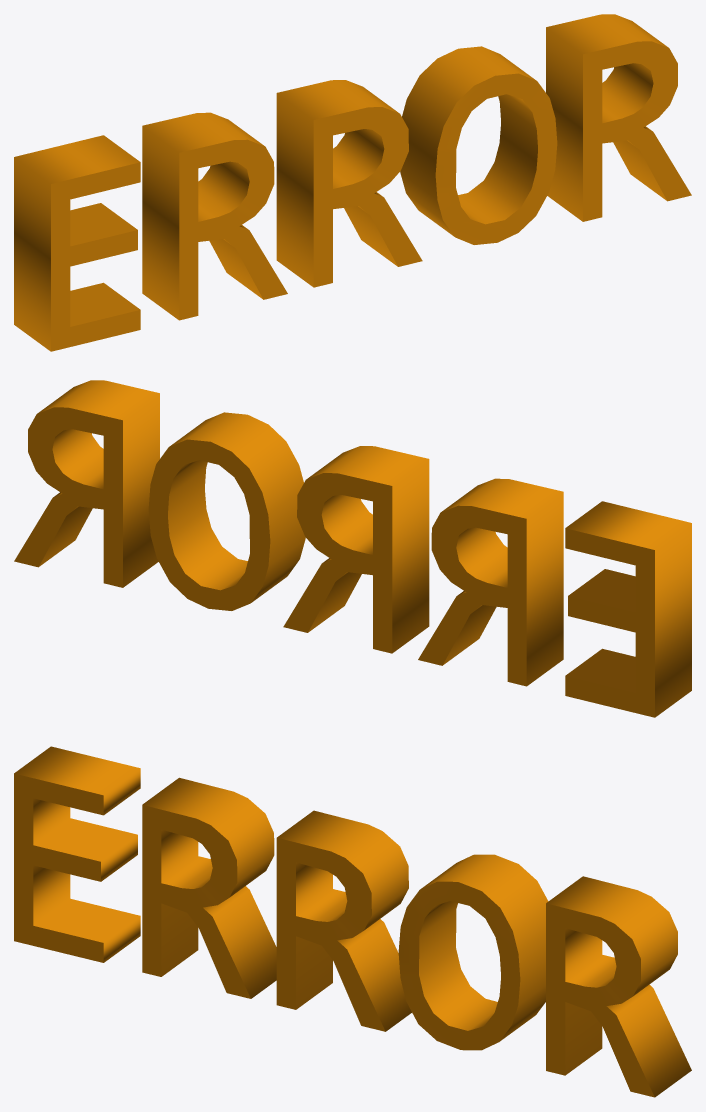
The model's file is error.gltf.
3 renders of one model, top to bottom at view 1: azimuth 30°, elevation 25°; view 2: azimuth 150°, elevation 25°; view 3: azimuth 330°, elevation 25°, orthographic.
Visible parts, largest first — view 1: error; view 2: error; view 3: error.
Part boxes in pixels (bbox=[...]): error: bbox=[14, 14, 691, 351]; error: bbox=[14, 380, 691, 717]; error: bbox=[14, 746, 691, 1097].
Bounding box in the file's own units: 2.54 × 0.635 × 0.254.
1 material, 1 textured.
